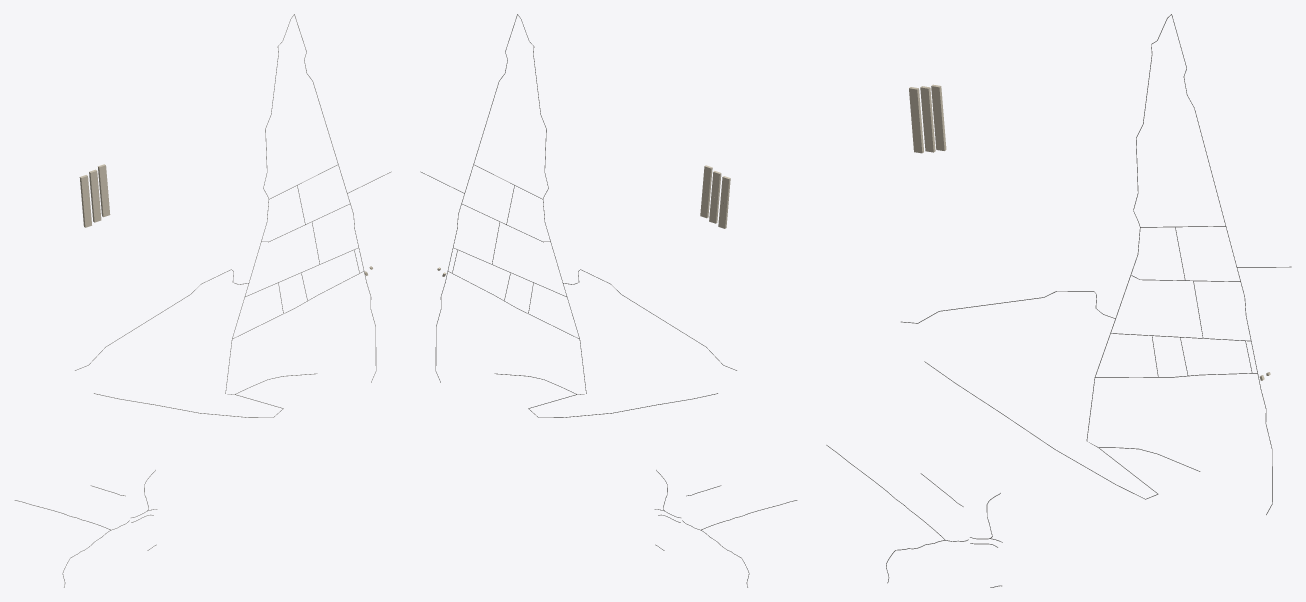
Rendered from historic-palestine-13_29_3552_3236.glb.
3 views of the same model, side by side, from view 1: azimuth 30°, elevation 25°; view 2: azimuth 150°, elevation 25°; view 3: azimuth 330°, elevation 25° (orthographic). The views are drawn at different scales.
Parts seen in each view (by area): view 1: Road; view 2: Road; view 3: Building_.002, Building_.003, Building_.004, Road, Road .010.
Boxes of the visible parts, box(x1,y1,x2,y2) form: Road: box(225, 14, 294, 408); Road: box(517, 14, 586, 408); Building_.002: box(909, 87, 923, 153); Building_.003: box(920, 86, 935, 152); Building_.004: box(931, 84, 946, 150); Road: box(1086, 14, 1171, 493); Road .010: box(1171, 14, 1272, 514).
Bounding box in the file's own units: 1093 × 1432 × 8.7.
